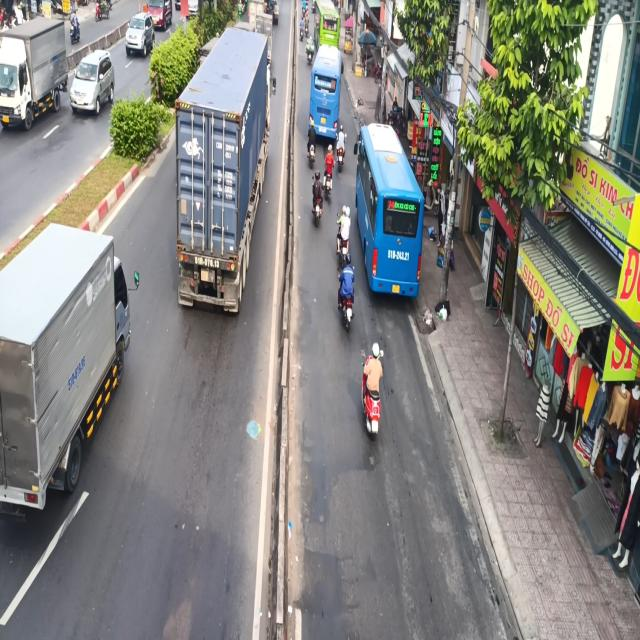bus: (356, 116, 426, 304), (306, 45, 345, 143)
motor: (360, 344, 389, 448), (311, 172, 326, 230)
truck: (0, 224, 141, 527), (167, 17, 272, 317)
